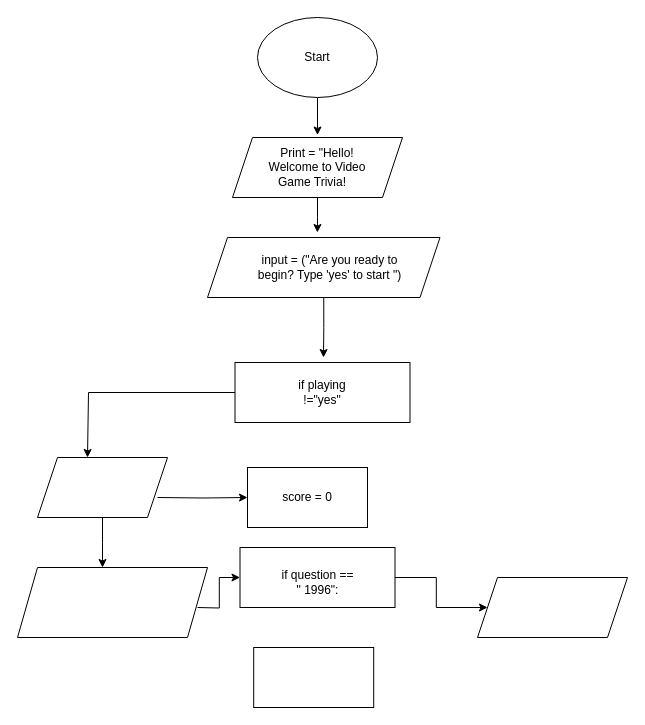
This 645x725 diagram has some shape labels left out. The centre of each missing label's shape, as x and y in pixels:
input("Question 1:"): the point at 102,487
print = "Correct! " score += 1: the point at 552,607
question = input("What year was the nintendo 64 released?"): the point at 112,602
